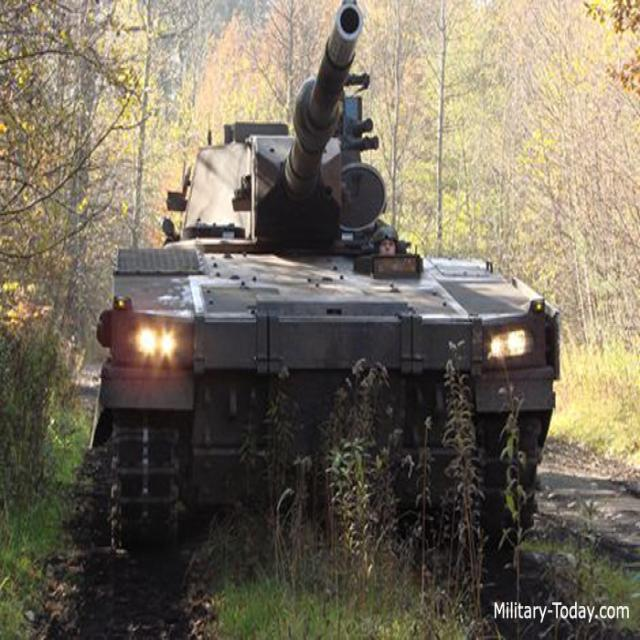Tank: (86, 4, 564, 530)
